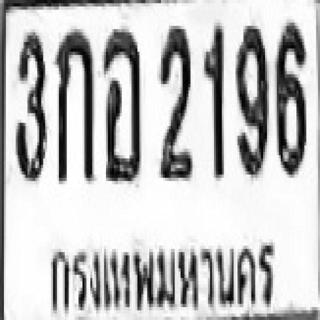A01: (55, 26, 92, 181)
A43: (102, 26, 139, 181)
N01: (202, 22, 224, 174)
N02: (157, 26, 192, 178)
N03: (14, 29, 45, 178)
N06: (274, 19, 305, 175)
N09: (234, 22, 267, 174)
P04: (41, 232, 284, 320)
